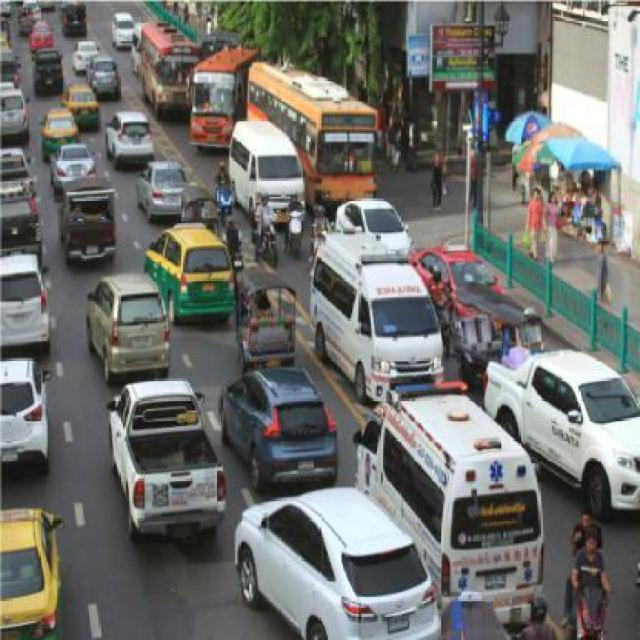emergency: (351, 383, 551, 611), (310, 231, 448, 407)
